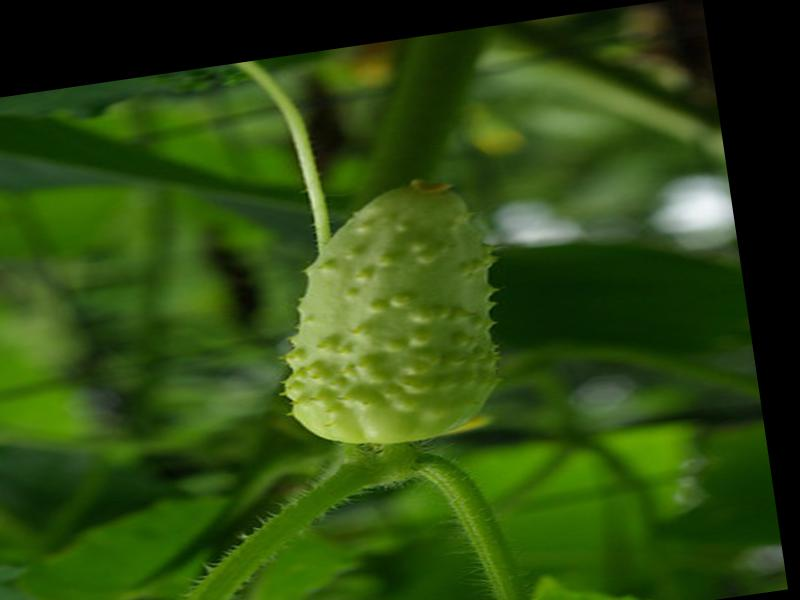Cucumber: (255, 168, 513, 459)
